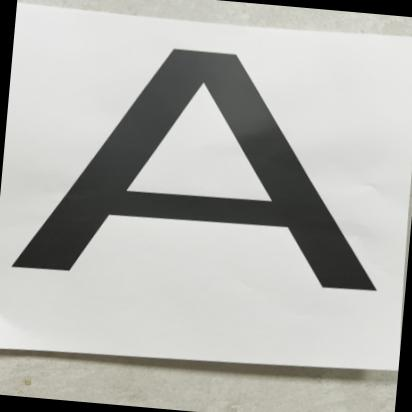seat: (0, 24, 412, 331), (0, 24, 412, 323)
